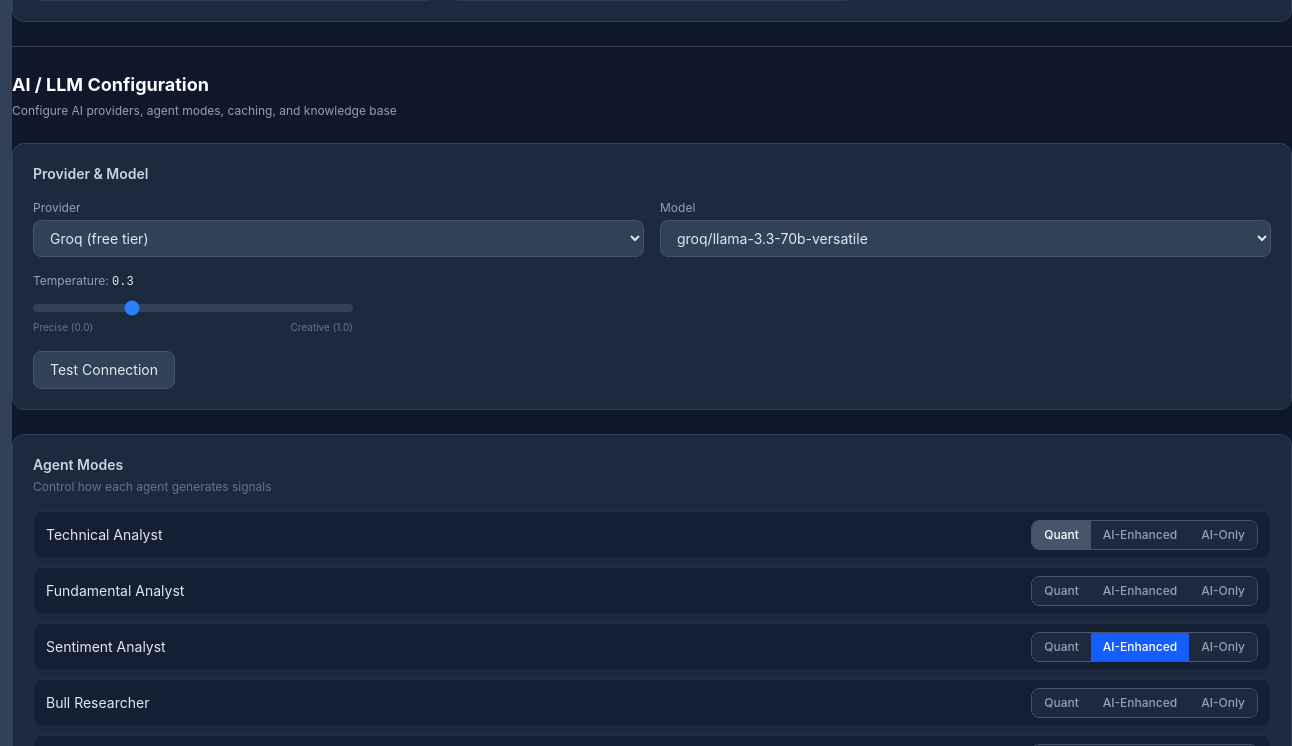
Test case: LiveConfig › Test Connection sends a real request body and shows the result
(page scrolled)
Click the button "Test Connection": (104, 370) [33,351,175,389]
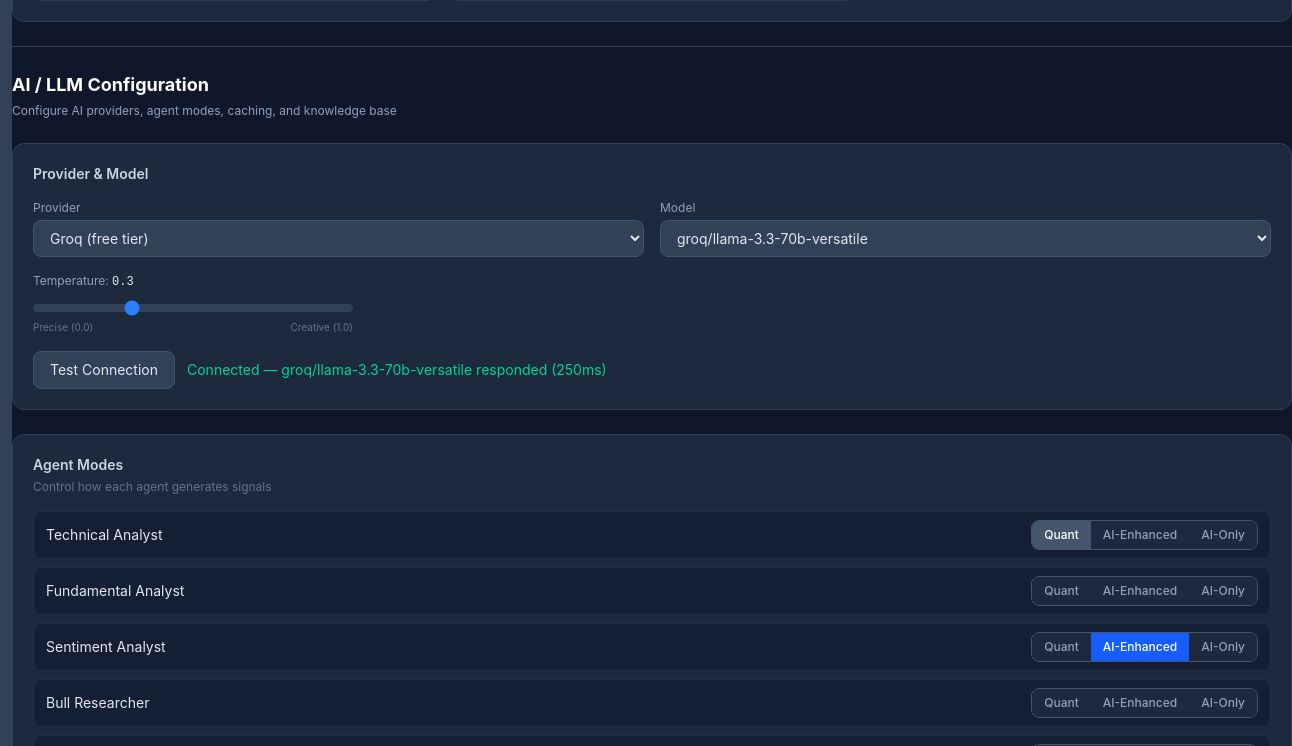
expect the text "Connected — groq/llama-3.3-70b-versatile responded (250ms)" is shown: met, box [187,360,607,380]
